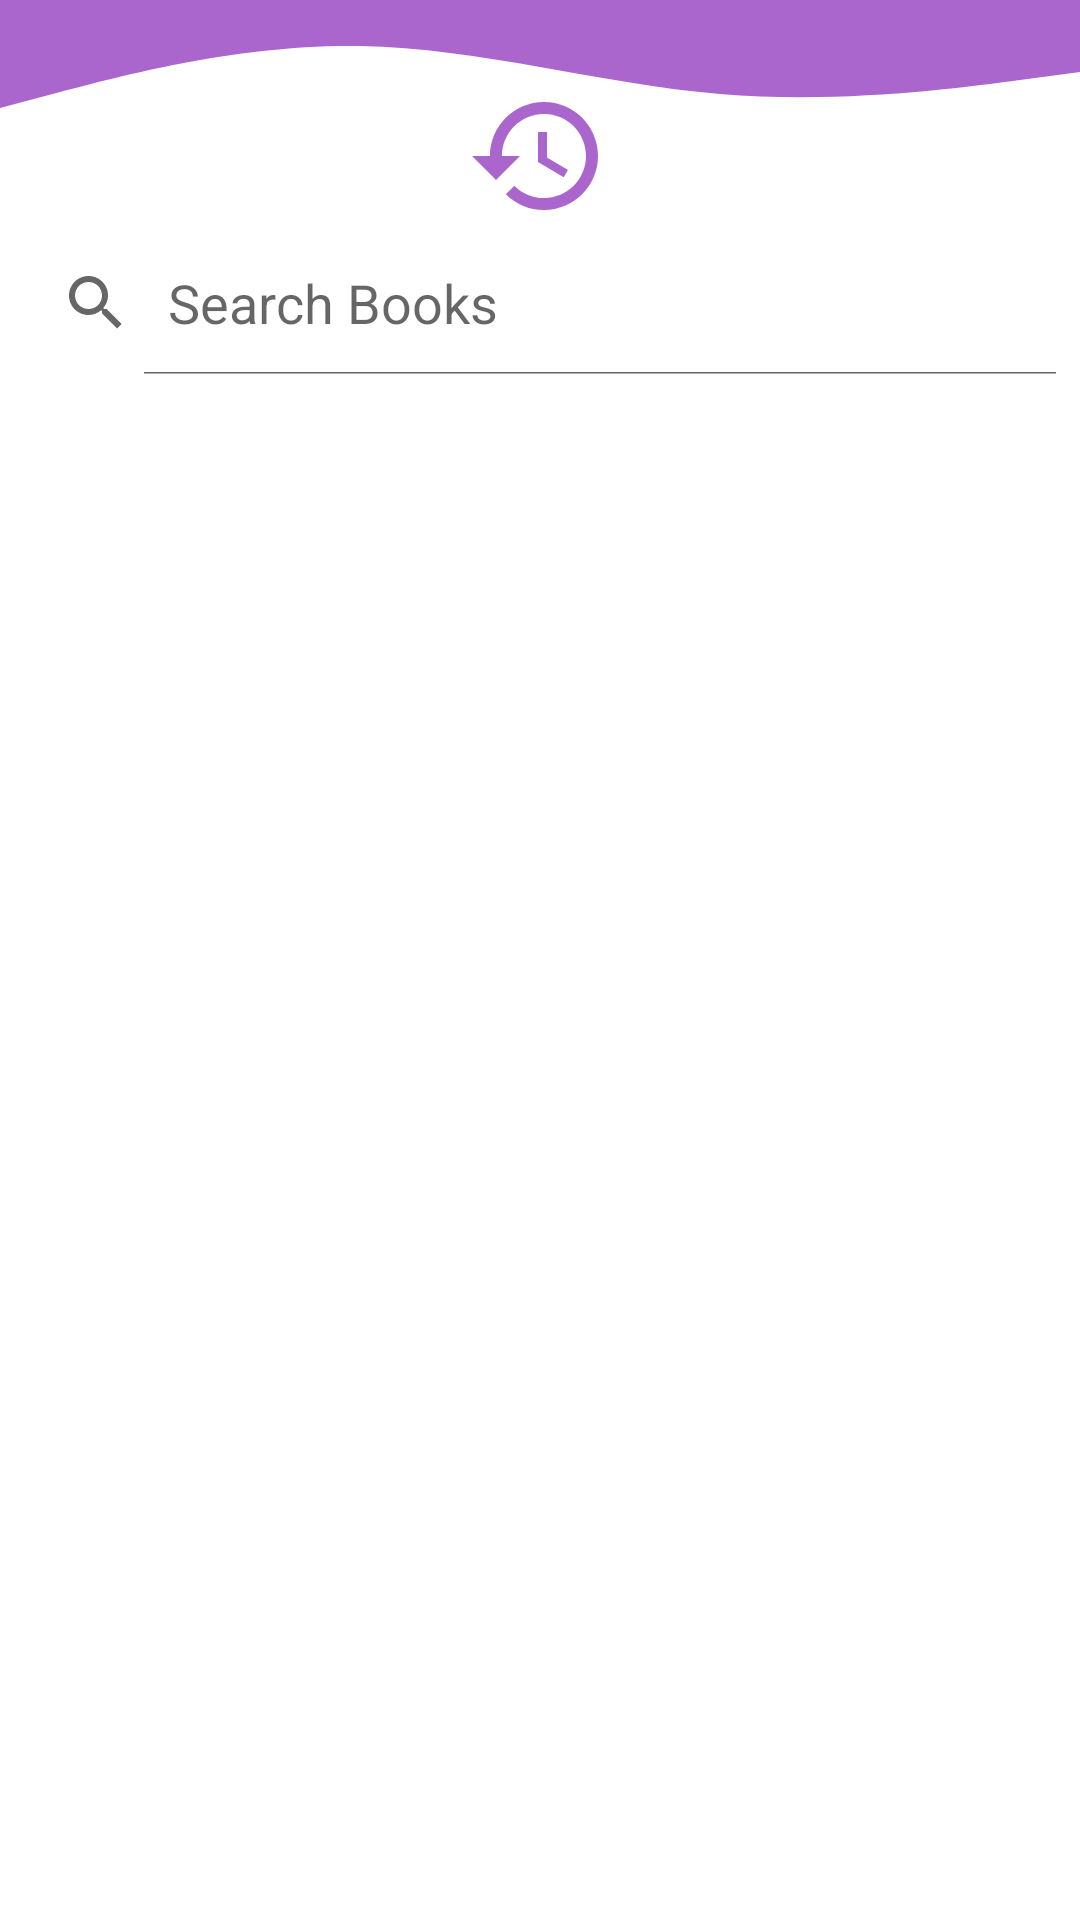

Named icons in this screenshot (1080×1920) and their bounding boxes, rect(x1, y1, x2, y2):
history: rect(472, 102, 598, 210)
